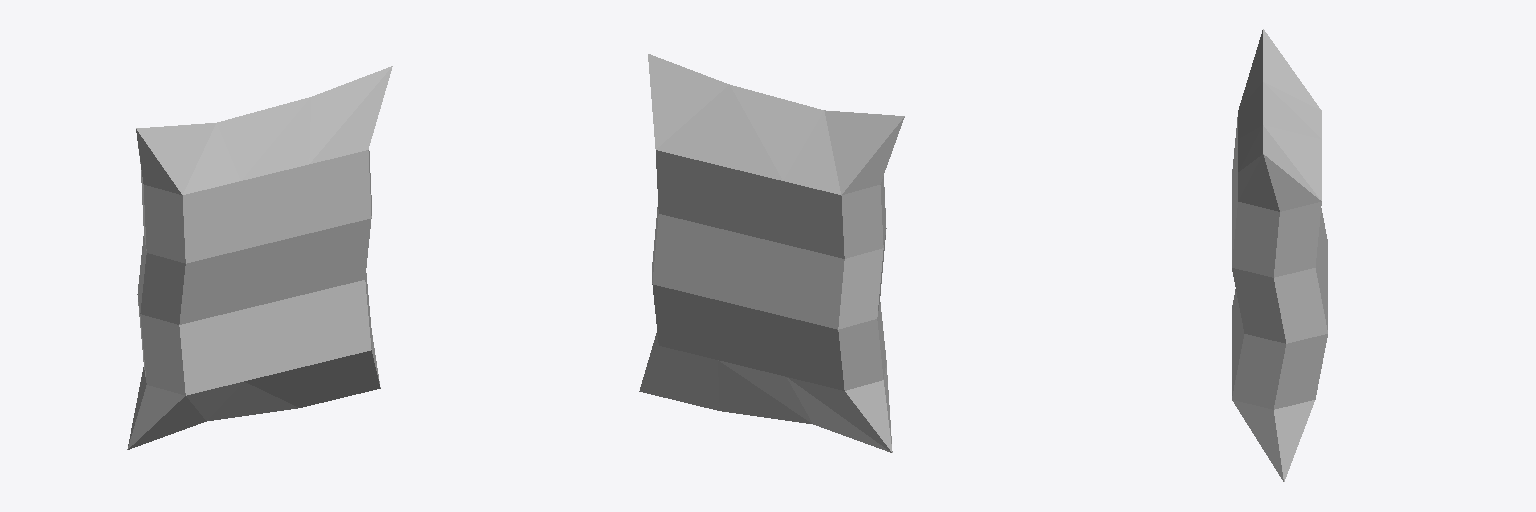
Rendered from LaysChips.obj.
3 views of the same model, side by side, from view 1: azimuth 30°, elevation 25°; view 2: azimuth 150°, elevation 25°; view 3: azimuth 270°, elevation 25° (orthographic).
Visible parts, largest first — view 1: pCube1; view 2: pCube1; view 3: pCube1.
Part boxes in pixels (bbox=[...]): pCube1: bbox=[127, 66, 392, 449]; pCube1: bbox=[639, 54, 904, 452]; pCube1: bbox=[1232, 29, 1327, 481].
Bounding box in the file's own units: 0.8304 × 1.02 × 0.2699.